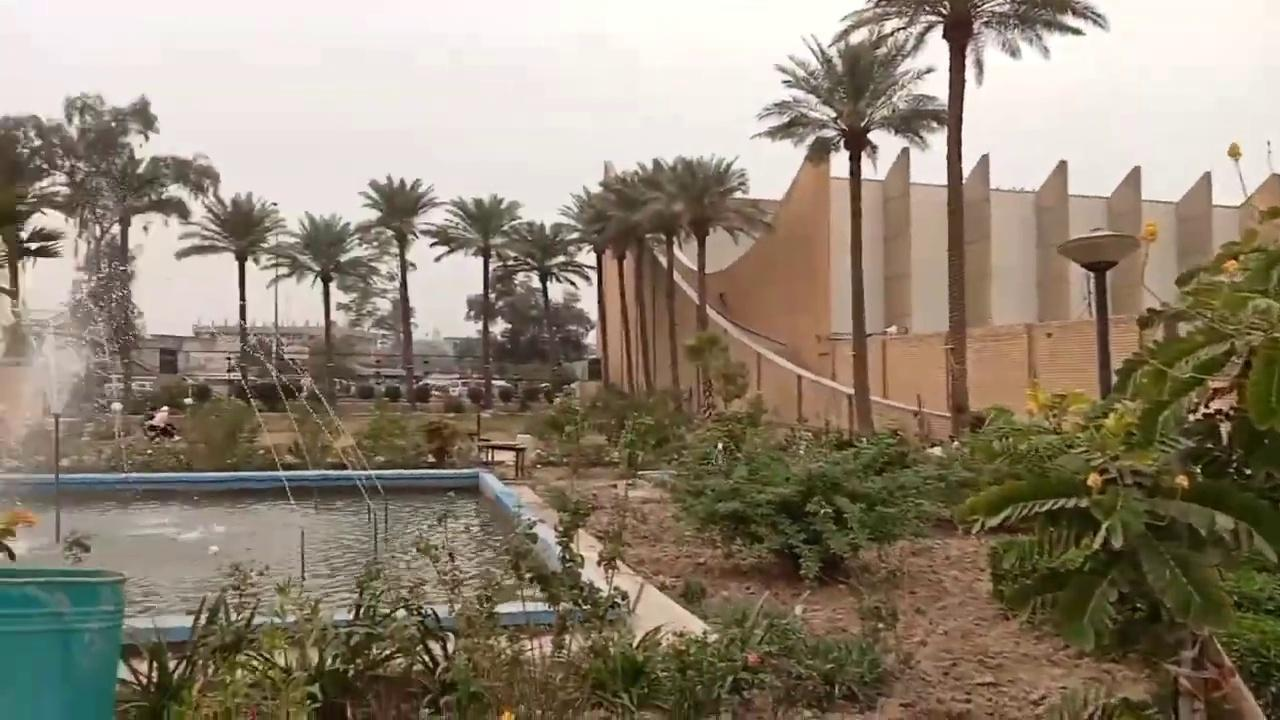fountain: (2, 318, 597, 653)
person: (144, 404, 178, 442)
tree: (949, 202, 1279, 718), (837, 0, 1109, 439), (750, 29, 949, 439), (12, 90, 219, 413), (644, 152, 773, 418), (70, 145, 190, 411), (557, 160, 653, 400), (264, 210, 377, 404), (427, 192, 523, 406), (355, 173, 441, 401), (174, 189, 285, 361), (0, 115, 65, 359), (630, 157, 691, 412), (491, 219, 593, 366), (354, 221, 417, 364), (257, 238, 299, 365)
